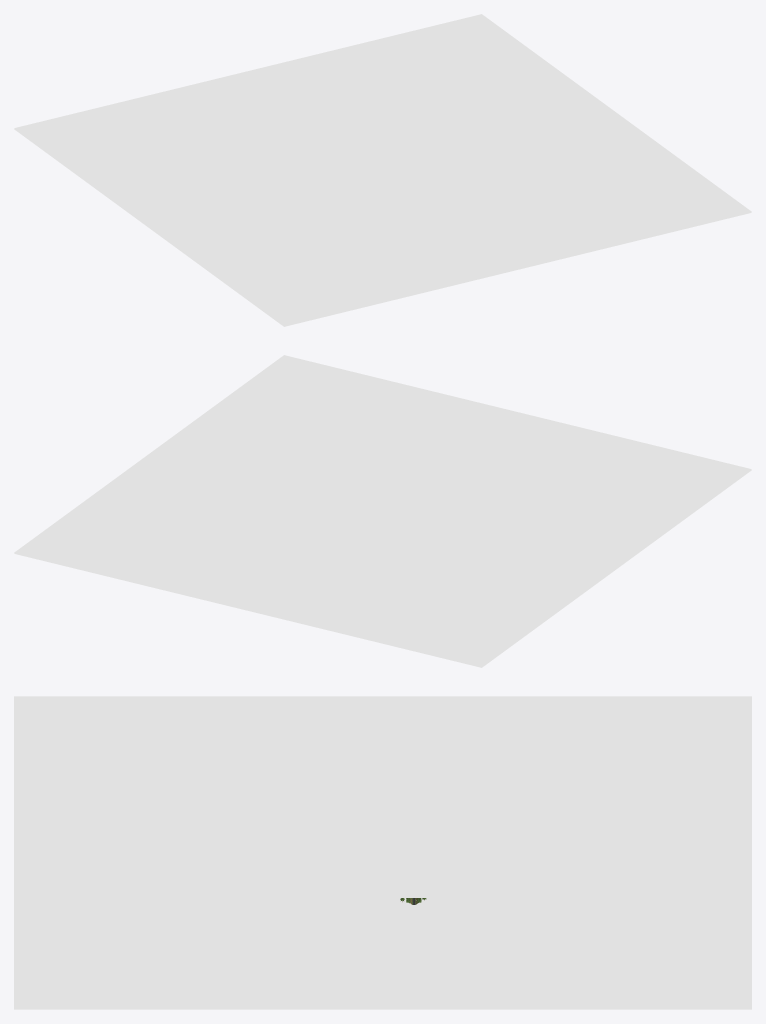
File: MainMenu.glb
3 views of the same model, one above another, from view 1: azimuth 30°, elevation 25°; view 2: azimuth 150°, elevation 25°; view 3: azimuth 270°, elevation 25° (orthographic). The views are drawn at different scales.
Parts seen in each view (by area): view 1: WaterStatic (×2), SandBottom; view 2: WaterStatic (×2), SandBottom; view 3: WaterStatic (×2), SandBottom.
Boxes of the visible parts, <box> form: WaterStatic (×2): <box>14,14,751,325</box>; SandBottom: <box>14,129,751,326</box>; WaterStatic (×2): <box>14,355,751,666</box>; SandBottom: <box>14,470,751,667</box>; WaterStatic (×2): <box>14,696,751,1008</box>; SandBottom: <box>14,1008,751,1009</box>.
Bounding box in the file's own units: 2500 × 105 × 2500.
Materials: 9 (5 with a texture image).
